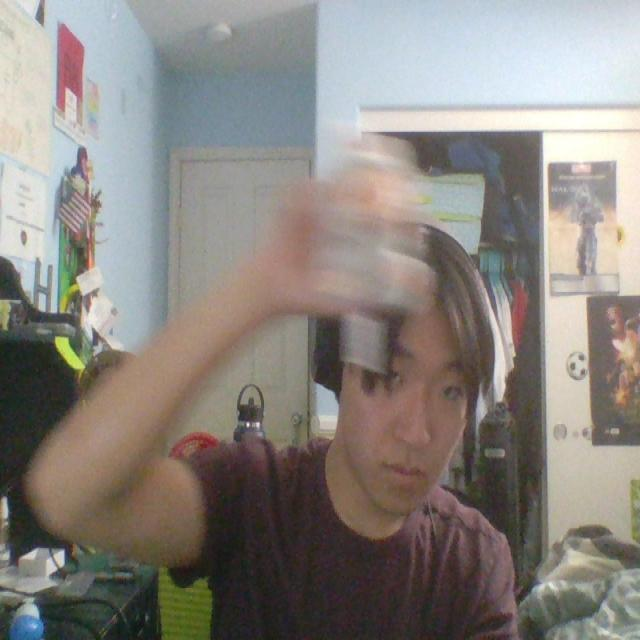labubu: (318, 136, 449, 313), (342, 315, 393, 373)
